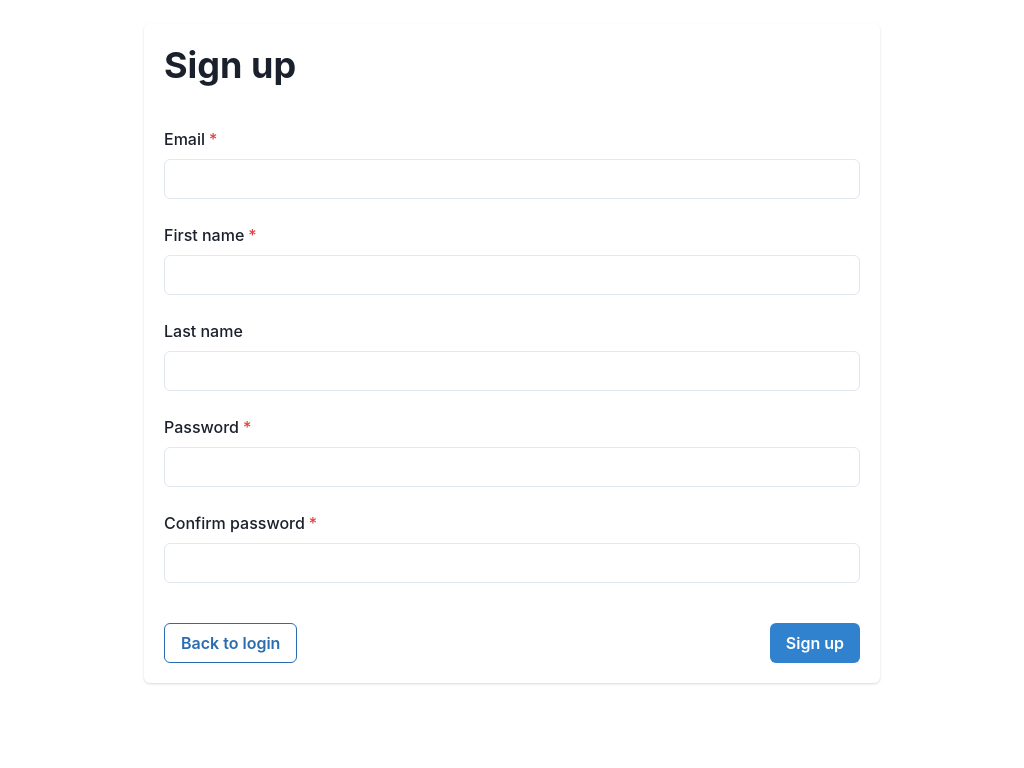
SignUp › should show alert on error
Step 1. Type "foo@bar.com" into the field with test id "email" → (512,179), box [164, 159, 860, 199]
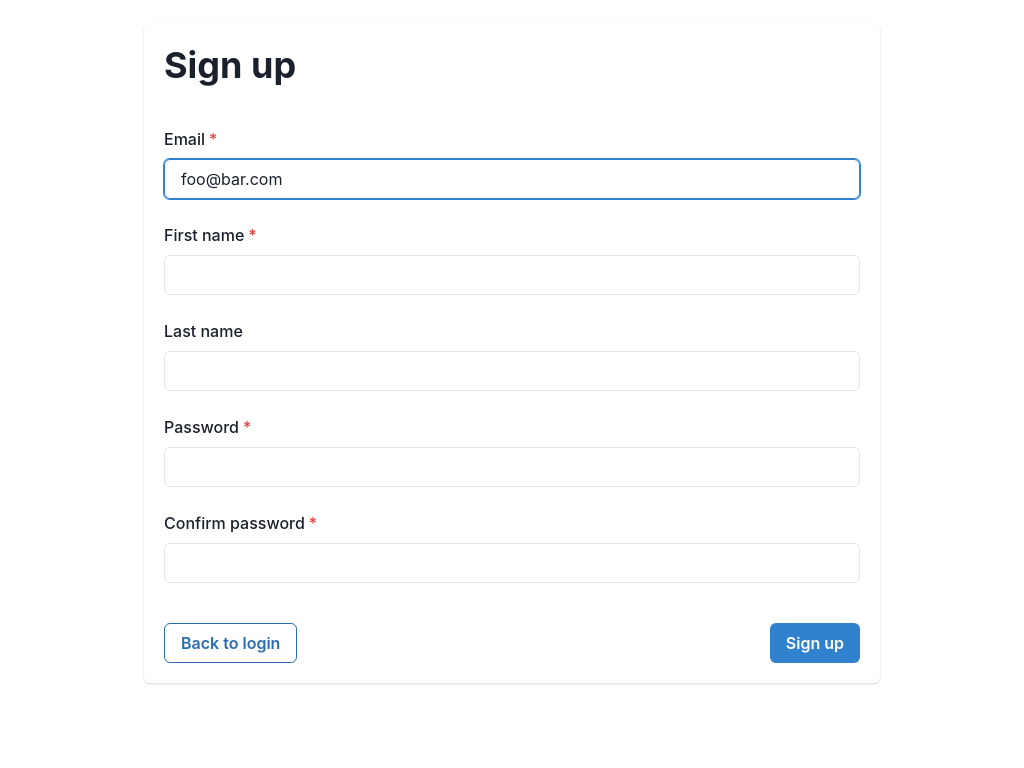
Step 2. Type "John" into the field with test id "firstName" → (512,275), box [164, 255, 860, 295]
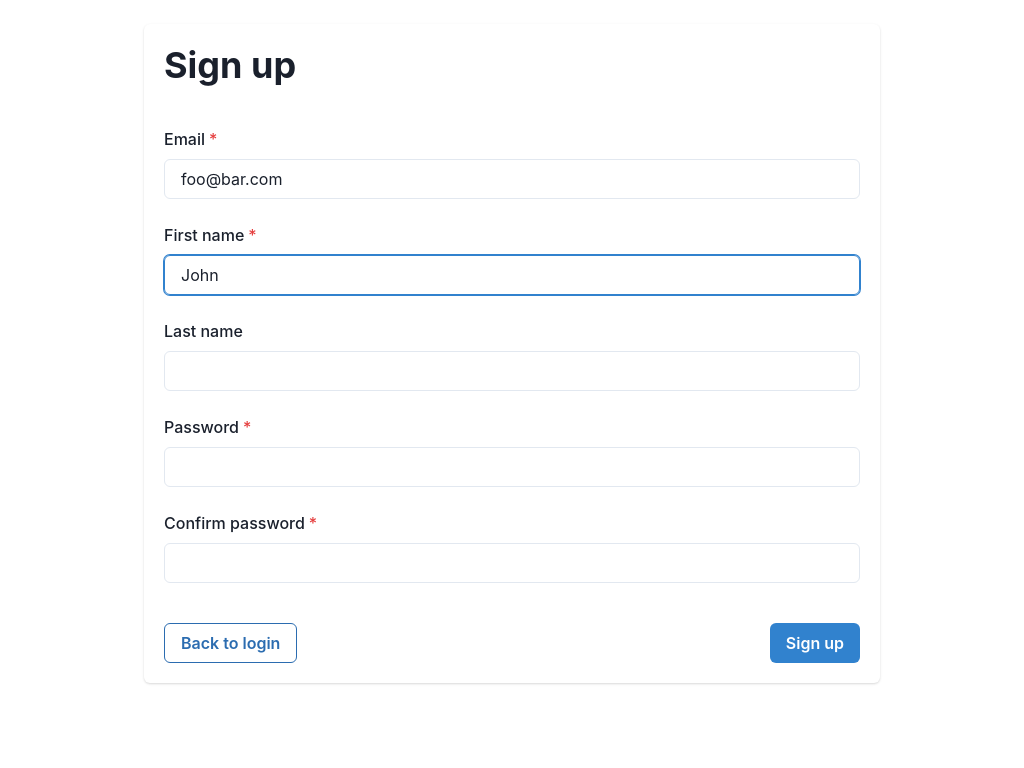
Step 3. Type "fooB4rPassW0rd" into the password field with test id "password" → (512,467), box [164, 447, 860, 487]
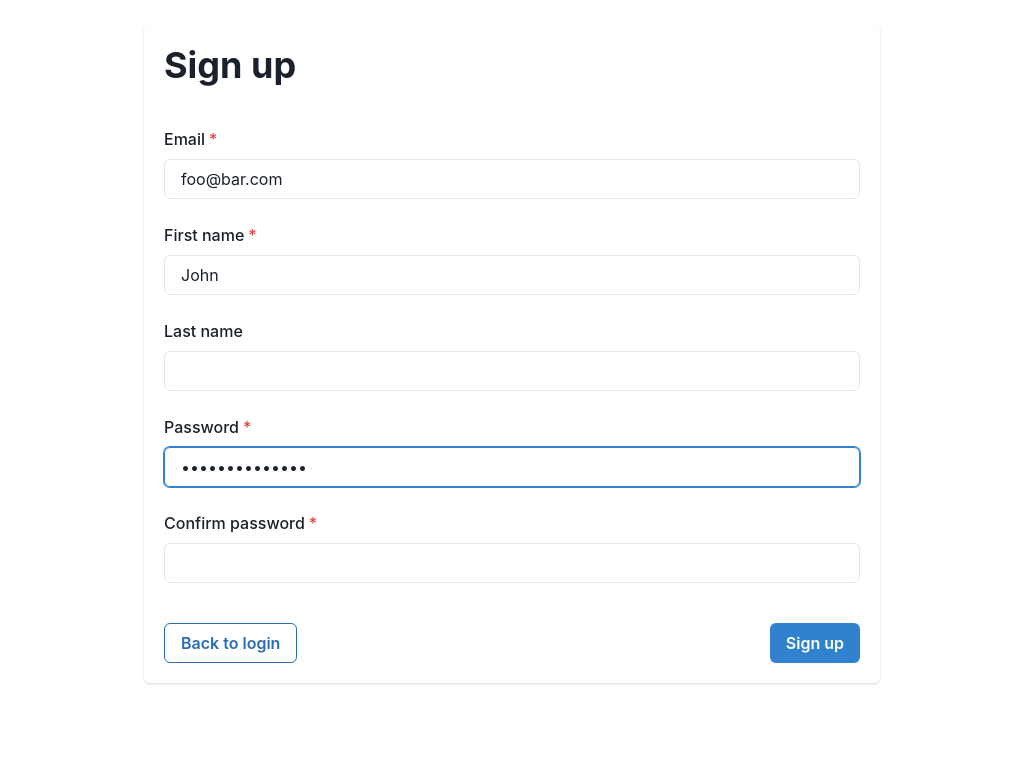
Step 4. Type "fooB4rPassW0rd" into the password field with test id "confirmPassword" → (512,563), box [164, 543, 860, 583]
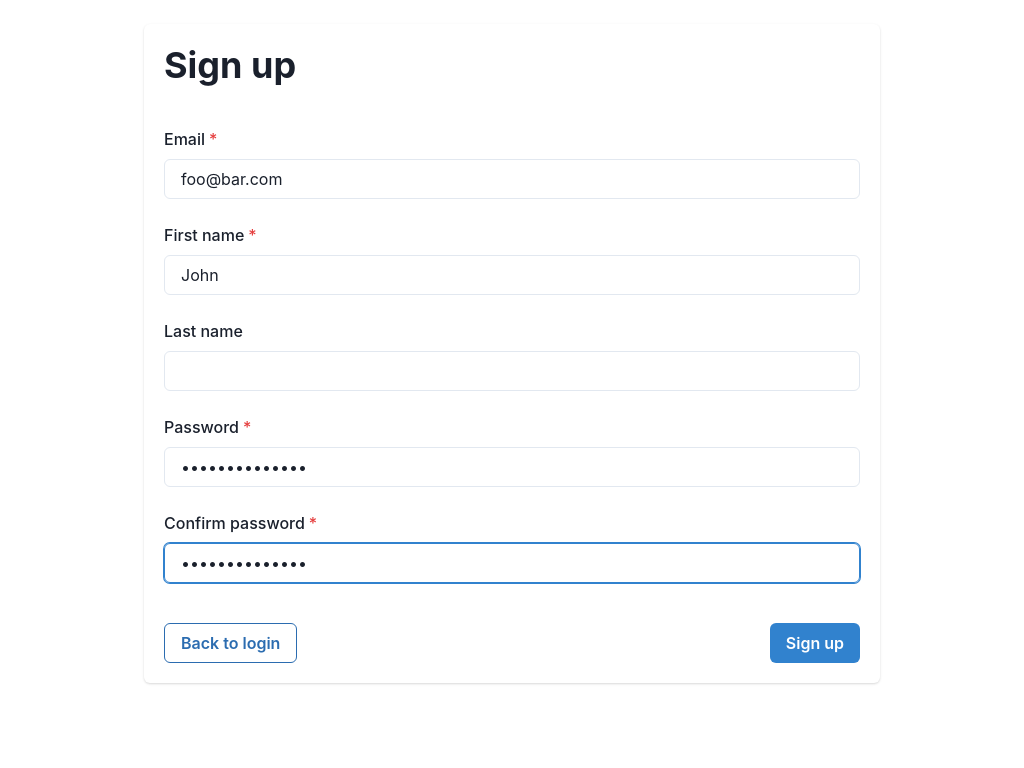
Step 5. Click the button "Sign up" → (815,643), box [770, 623, 860, 663]
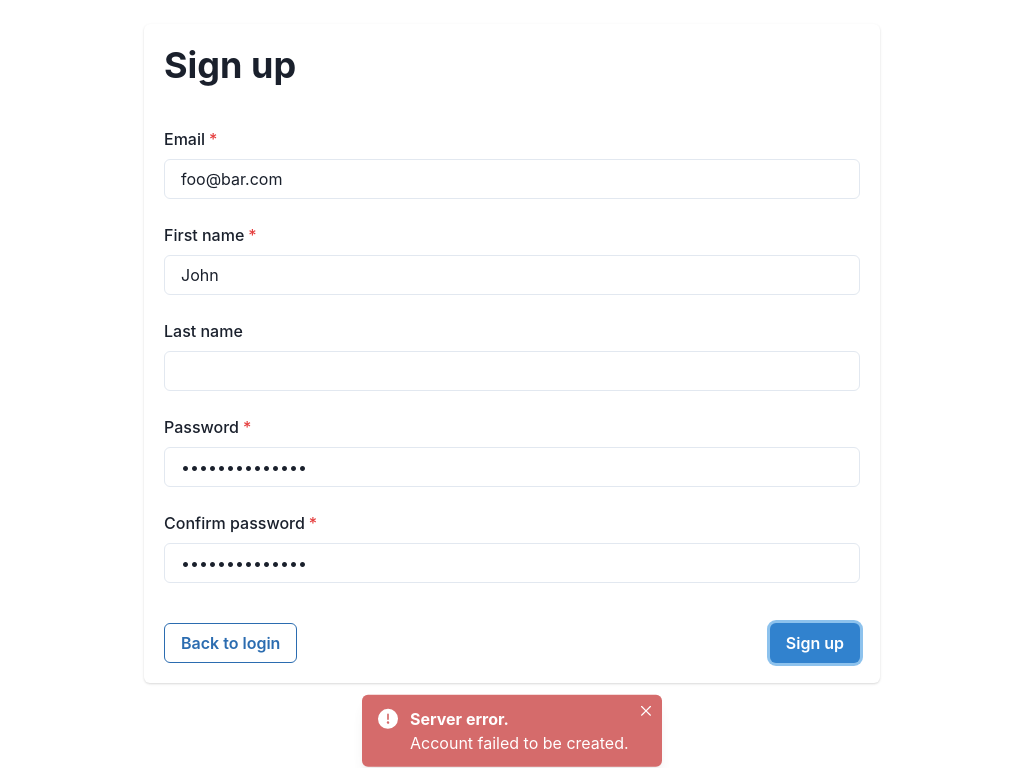
Result: the text "Server error." is shown at [410, 709, 509, 729]
Result: the text "Account failed to be created." is shown at [410, 731, 630, 755]
